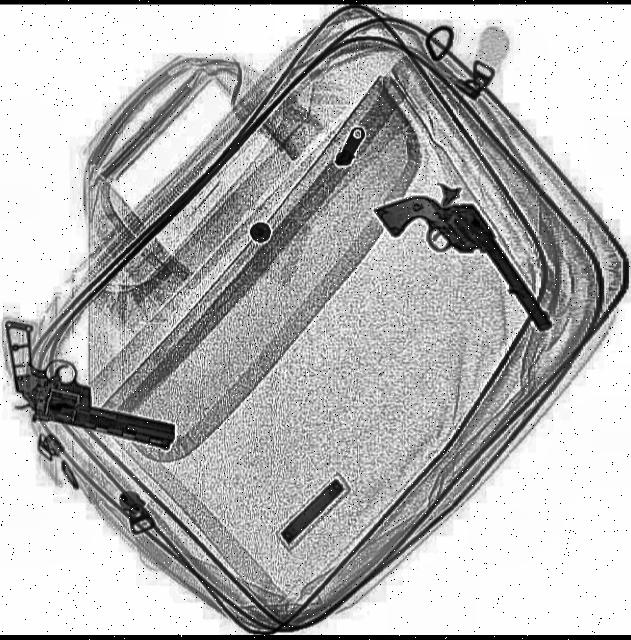Gun: (375, 157, 556, 380), (0, 320, 189, 453)
